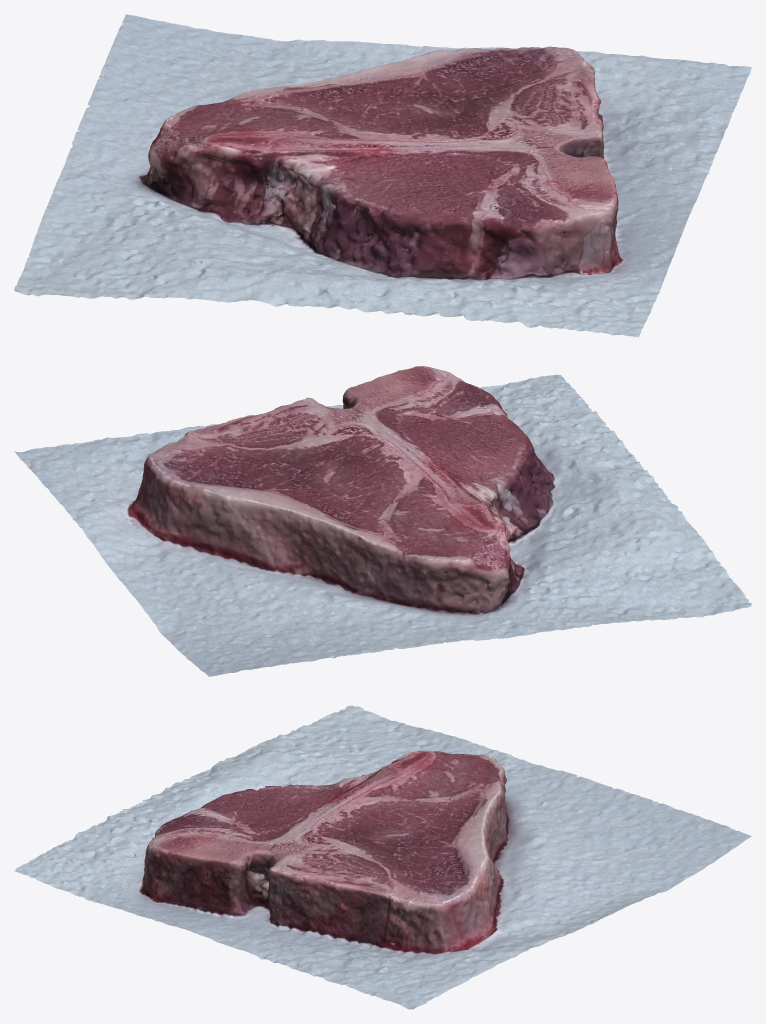
File: raw_beef.glb
3 renders of one model, top to bottom at view 1: azimuth 30°, elevation 25°; view 2: azimuth 150°, elevation 25°; view 3: azimuth 270°, elevation 25°, orthographic. The views are drawn at different scales.
Parts seen in each view (by area): view 1: Model; view 2: Model; view 3: Model.
Boxes of the visible parts, box(x1,y1,x2,y2) form: Model: box(14, 14, 751, 337); Model: box(14, 366, 751, 676); Model: box(14, 705, 751, 1009).
Bounding box in the file's own units: 35.71 × 3.11 × 35.82.
Materials: 1 (1 with a texture image).
